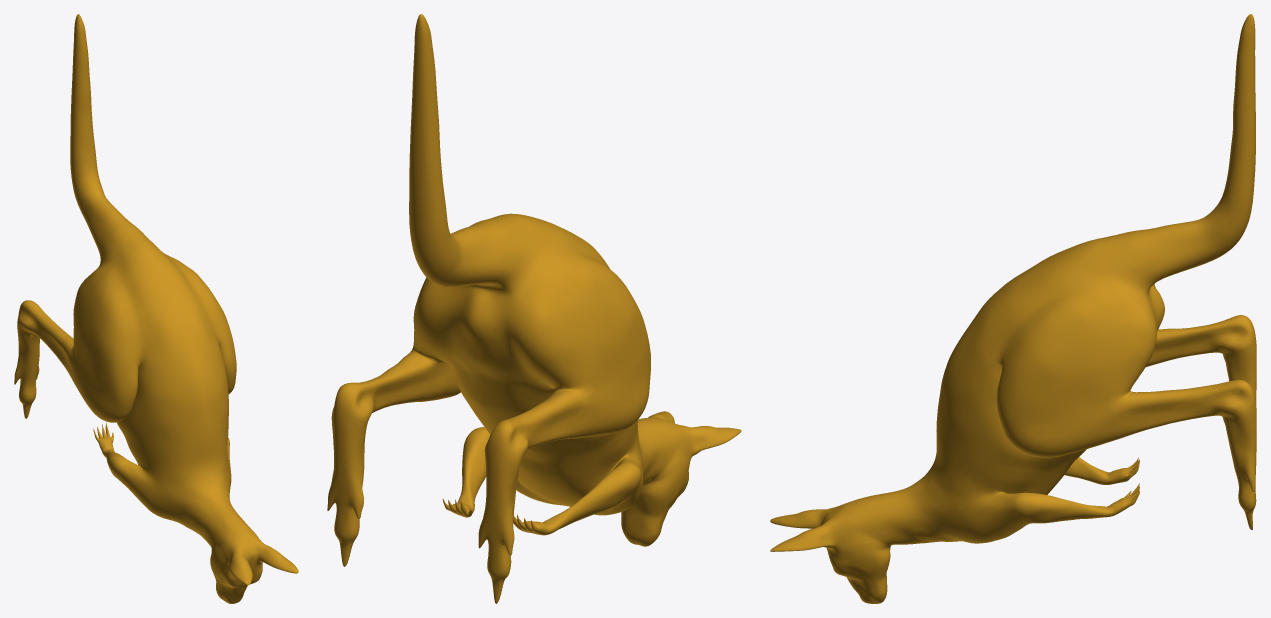
File: kanga2.obj
3 views of the same model, side by side, from view 1: azimuth 30°, elevation 25°; view 2: azimuth 150°, elevation 25°; view 3: azimuth 270°, elevation 25° (orthographic). The views are drawn at different scales.
Parts seen in each view (by area): view 1: 10666_Kangaroo_v2; view 2: 10666_Kangaroo_v2; view 3: 10666_Kangaroo_v2.
Part boxes in pixels (box(x1,y1,x2,y2)): 10666_Kangaroo_v2: box(14, 14, 298, 603); 10666_Kangaroo_v2: box(327, 14, 741, 603); 10666_Kangaroo_v2: box(770, 14, 1256, 603).
Size of the model in its own units: 72.21 by 245 by 184.
